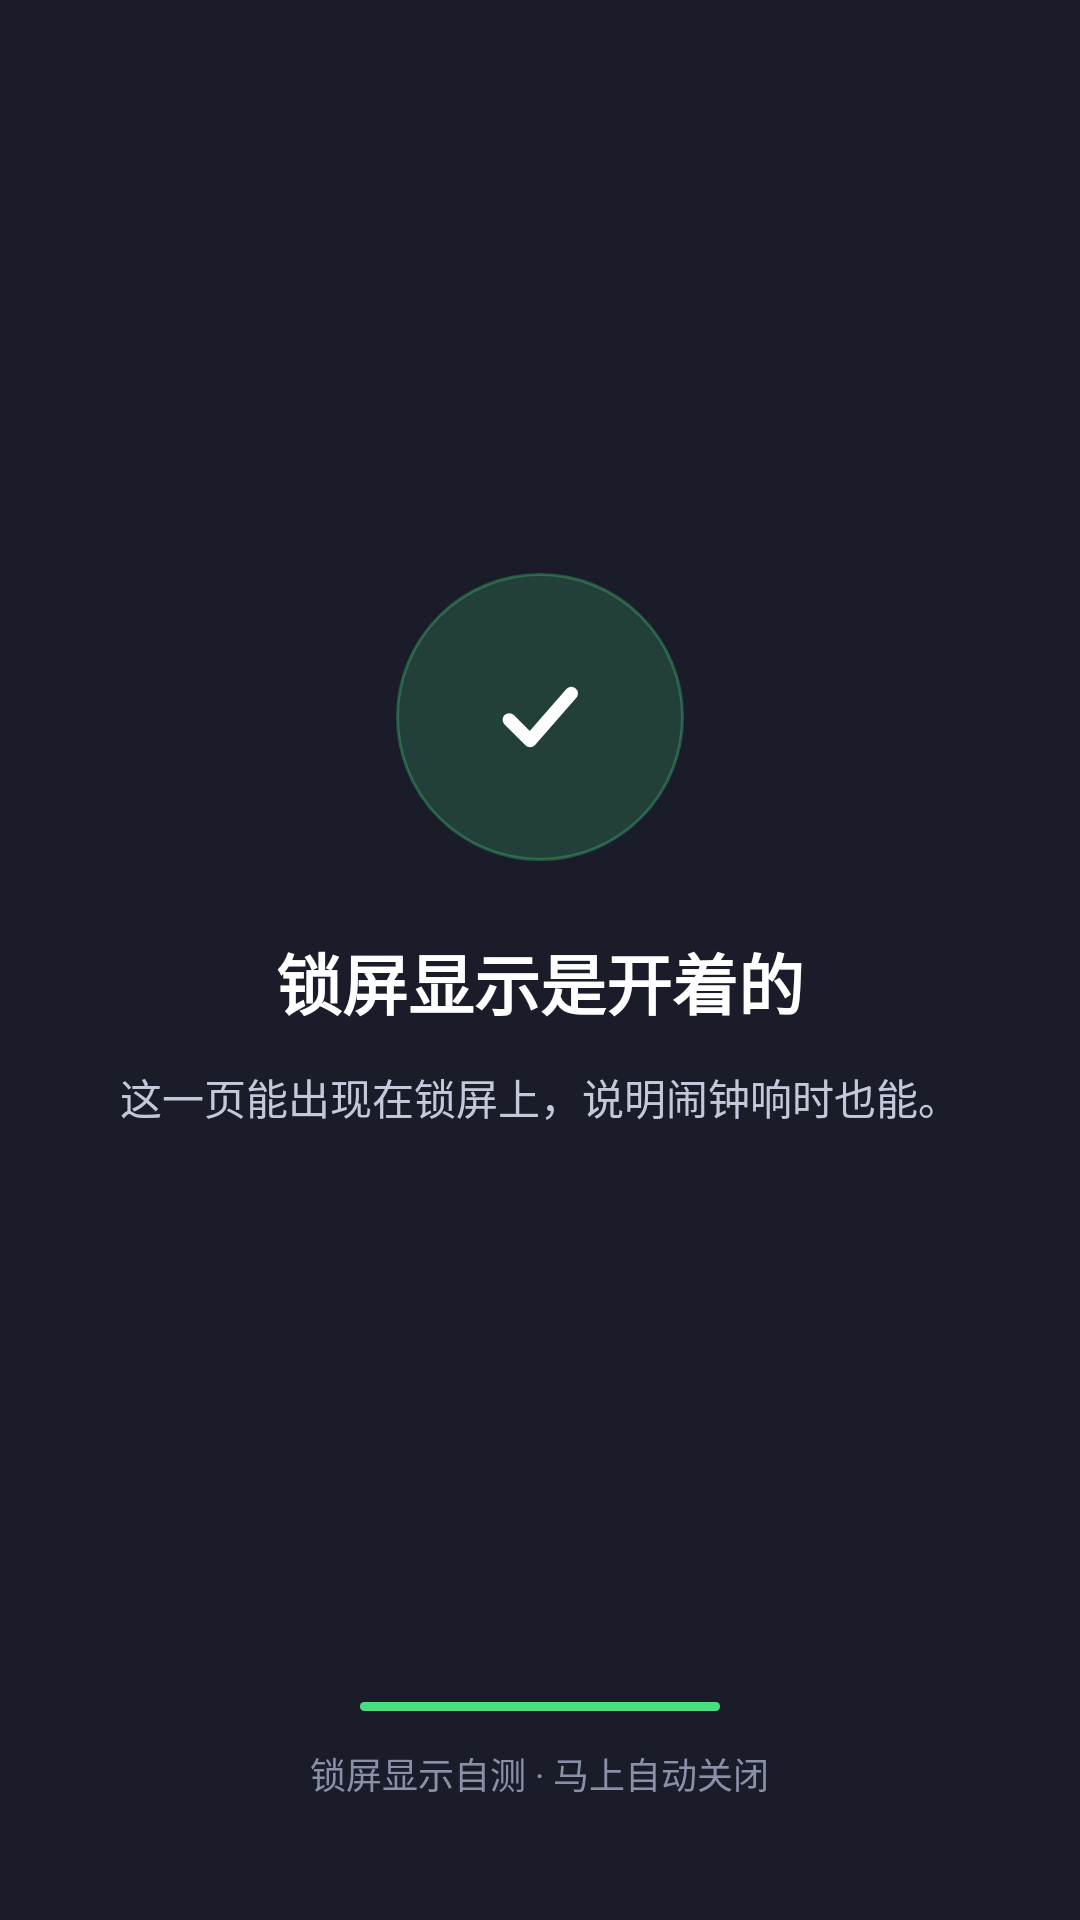

Where to tap for icons on this 1080px x 1920px app screen, as (x,y):
probe check: (540,717)
